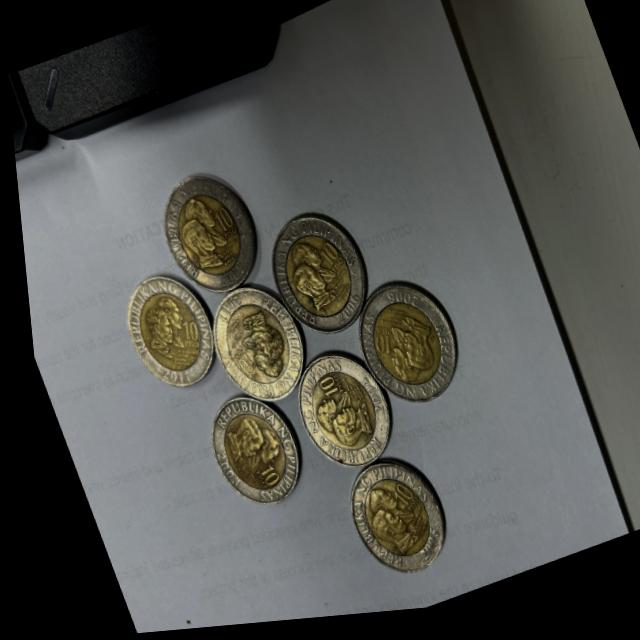10_Old_Front: (205, 206, 232, 242), (246, 465, 273, 495), (378, 486, 403, 517), (227, 352, 251, 383), (311, 243, 335, 272), (307, 380, 332, 407), (171, 319, 195, 347), (364, 337, 387, 365)
